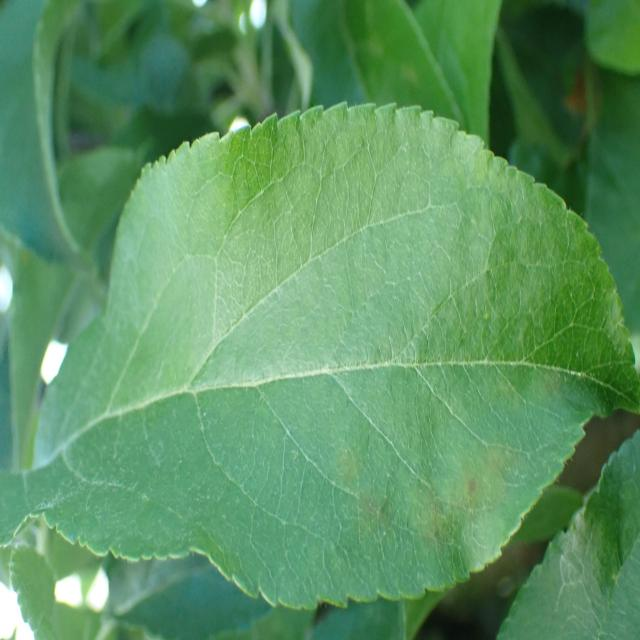scab: (143, 158, 637, 594)
